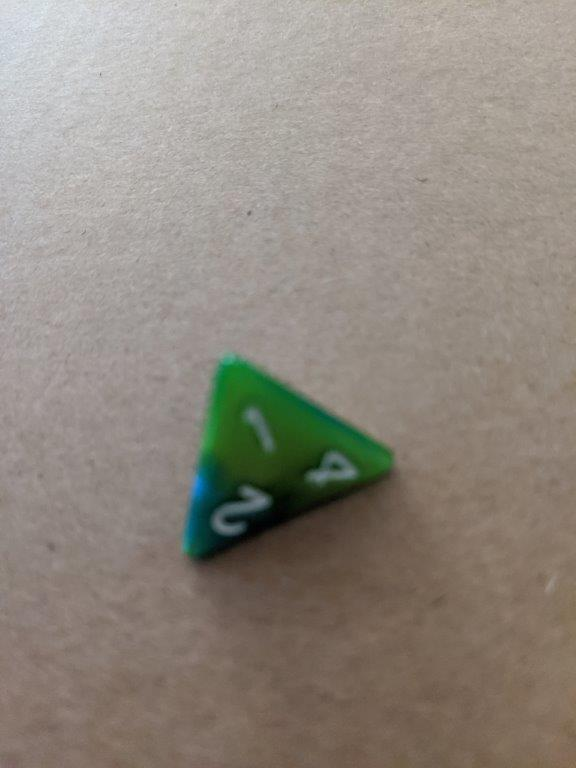d4-1: (175, 345, 399, 569)
